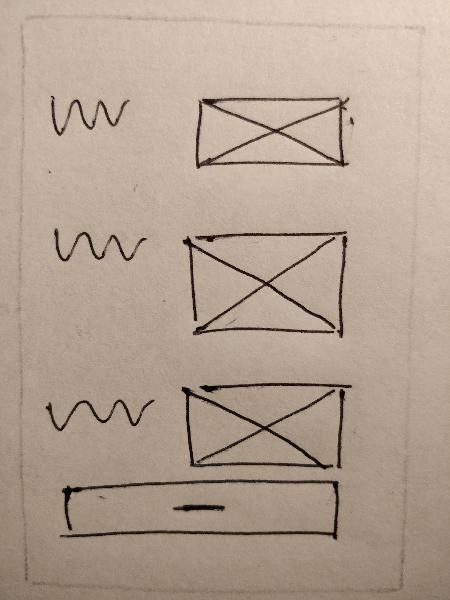button: (48, 475, 352, 549)
image: (180, 222, 357, 345), (173, 370, 356, 480), (184, 84, 360, 187)
text: (40, 384, 156, 440), (43, 222, 153, 275), (42, 84, 133, 145)
